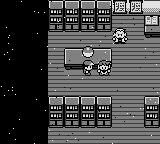leer: (114, 0, 143, 15), (145, 16, 160, 37)
main: (82, 61, 95, 76)
no-caminable: (0, 0, 48, 144), (49, 97, 111, 128), (50, 1, 110, 32), (65, 48, 111, 66), (145, 97, 160, 128), (144, 1, 160, 16)
npc: (112, 29, 128, 44), (97, 61, 111, 76)
poke-ball: (82, 46, 94, 57)
